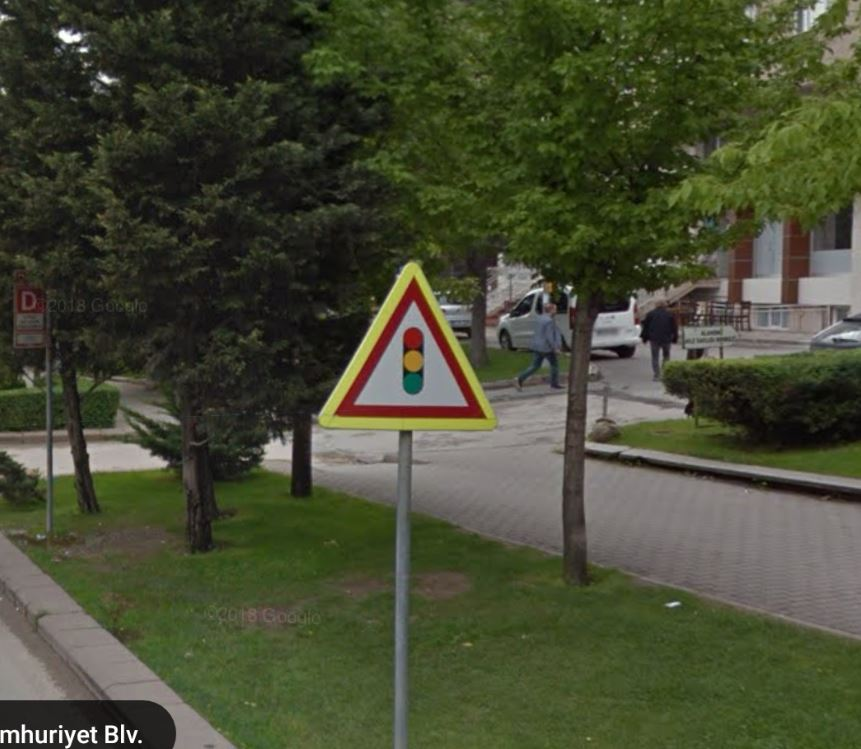Trafikisiklari: (334, 262, 486, 427)
